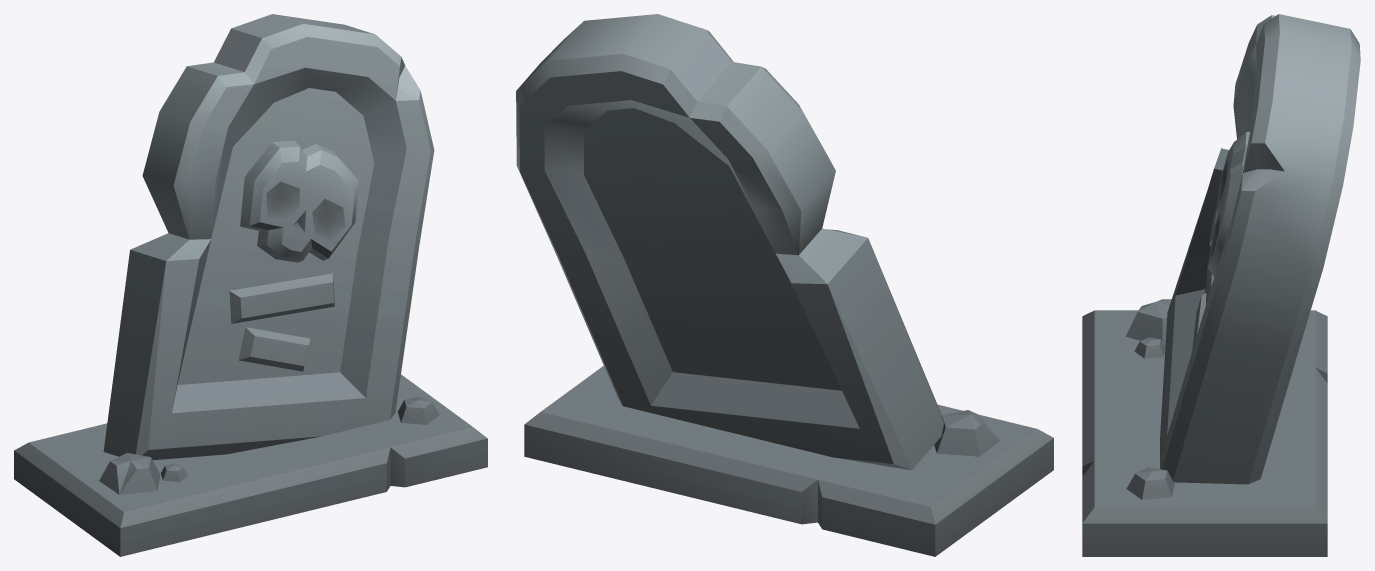
Rendered from grave_a_destroyed.glb.
3 renders of one model, left to right at view 1: azimuth 30°, elevation 25°; view 2: azimuth 150°, elevation 25°; view 3: azimuth 270°, elevation 25°, orthographic. The views are drawn at different scales.
Visible parts, largest first — view 1: grave_A_destroyed; view 2: grave_A_destroyed; view 3: grave_A_destroyed.
Part boxes in pixels (bbox=[...]): grave_A_destroyed: bbox=[14, 14, 487, 556]; grave_A_destroyed: bbox=[516, 14, 1053, 556]; grave_A_destroyed: bbox=[1082, 14, 1360, 556].
Bounding box in the file's own units: 2.08 × 2.11 × 1.14.
1 material, 1 textured.
